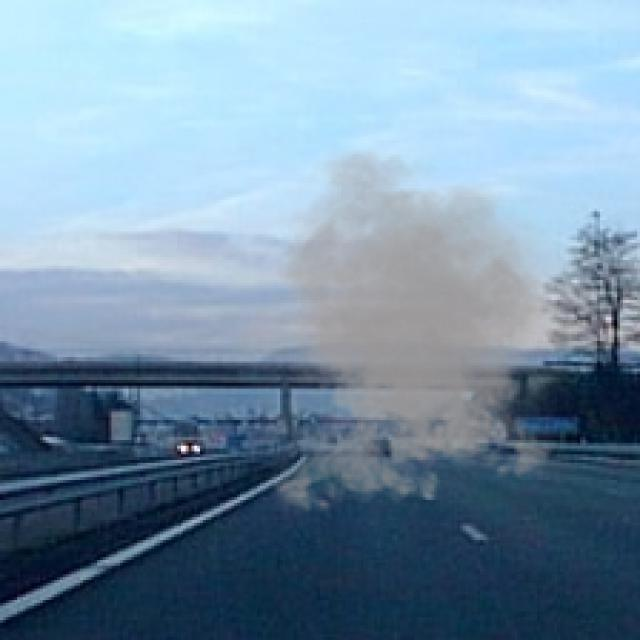Smoke: (217, 143, 609, 523)
